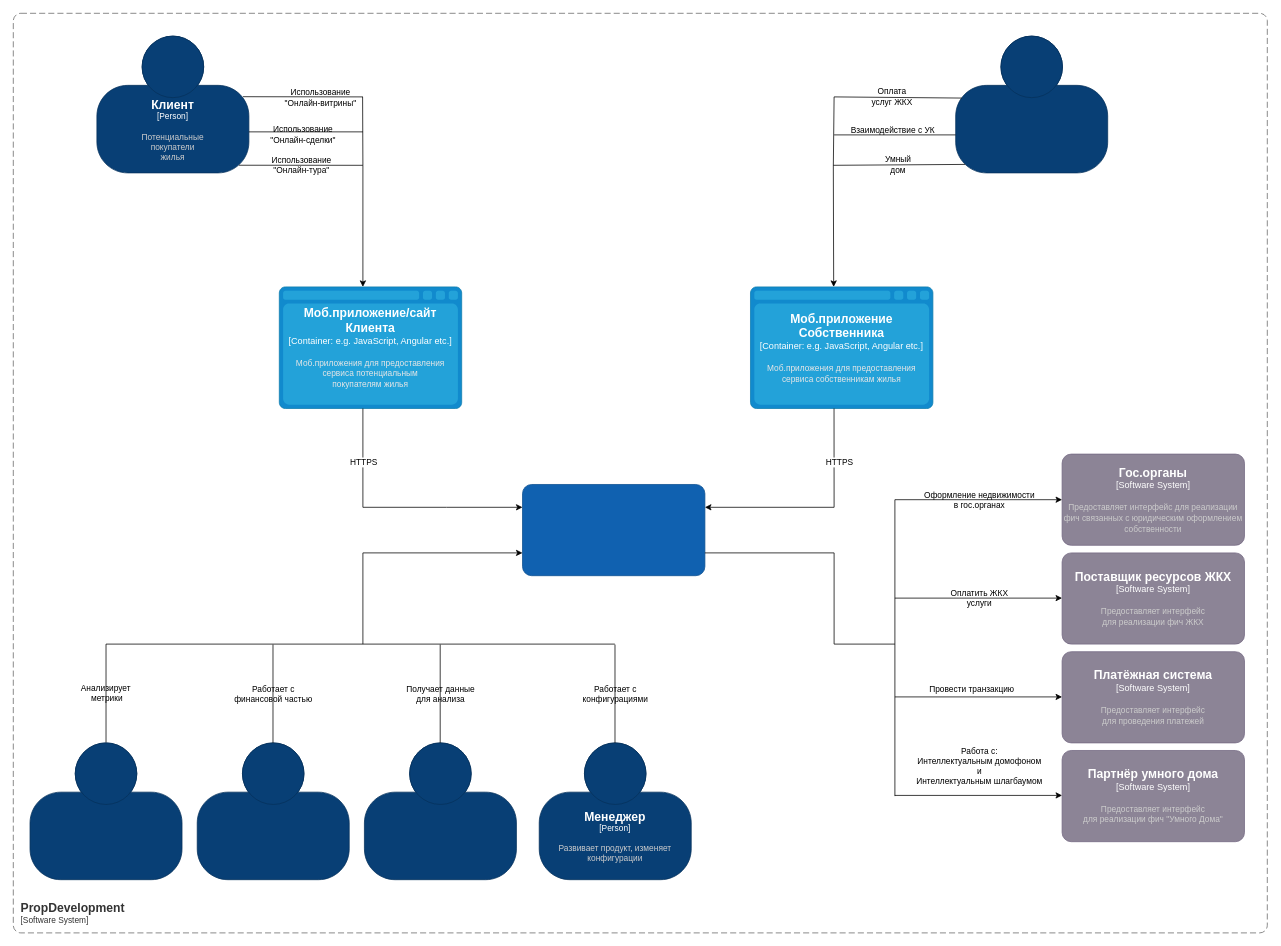
This 1281x946 diagram has some shape labels left out. Each missing label, with the centre of its shape:
Back-end компании [Software System] Генерирует и обрабатывает данные компании: the point at 613,530
Аналитик BI [Person] Работает с данными компании: the point at 440,811
Бизнес аналитик [Person] Изучает метрики приложения для развития продукта: the point at 105,811
Бухгалтер [Person] Отвечает за финансовую часть проведения сделок: the point at 272,811
Собственник [Person] Пользователь системы, роль собственник жилья ЖК компании: the point at 1031,104
